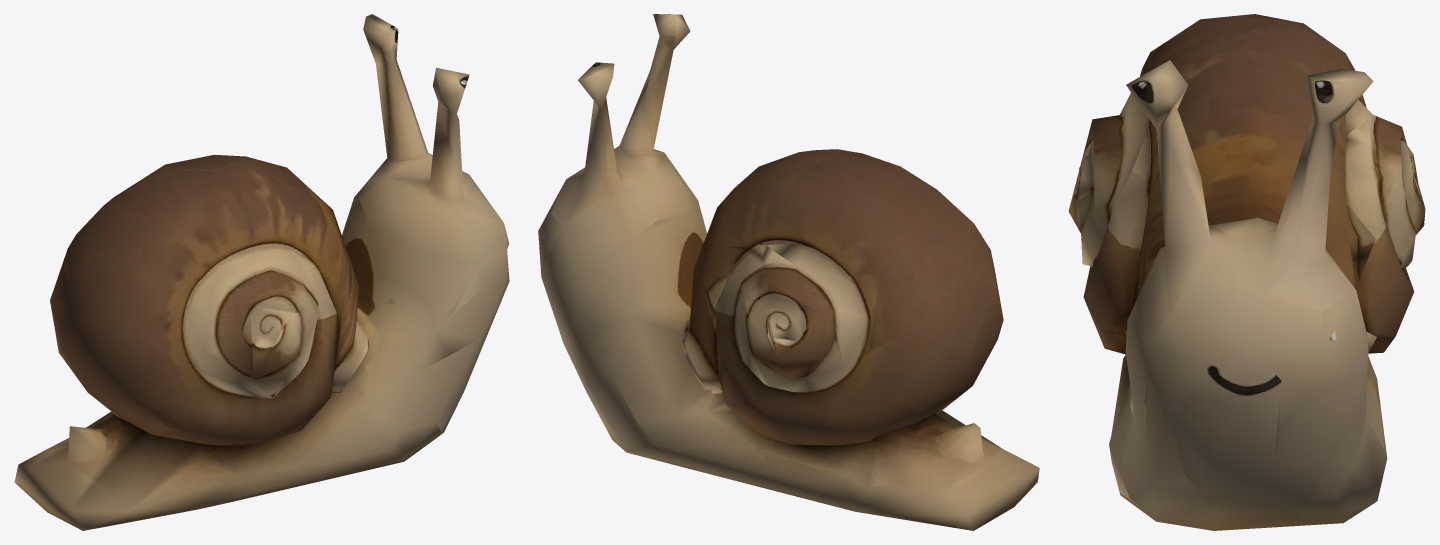
The model's file is toad-snail.glb.
The picture shows the model from 3 angles, left to right: view 1: azimuth 30°, elevation 25°; view 2: azimuth 150°, elevation 25°; view 3: azimuth 270°, elevation 25°; orthographic projection. The views are drawn at different scales.
Visible parts, largest first — view 1: lo; view 2: lo; view 3: lo.
Part boxes in pixels (x1,y1,x2,y2): lo: (14,14,509,530); lo: (538,14,1039,530); lo: (1068,14,1425,530).
Size of the model in its own units: 0.0347 by 0.0278 by 0.0188.
Materials: 1 (1 with a texture image).
